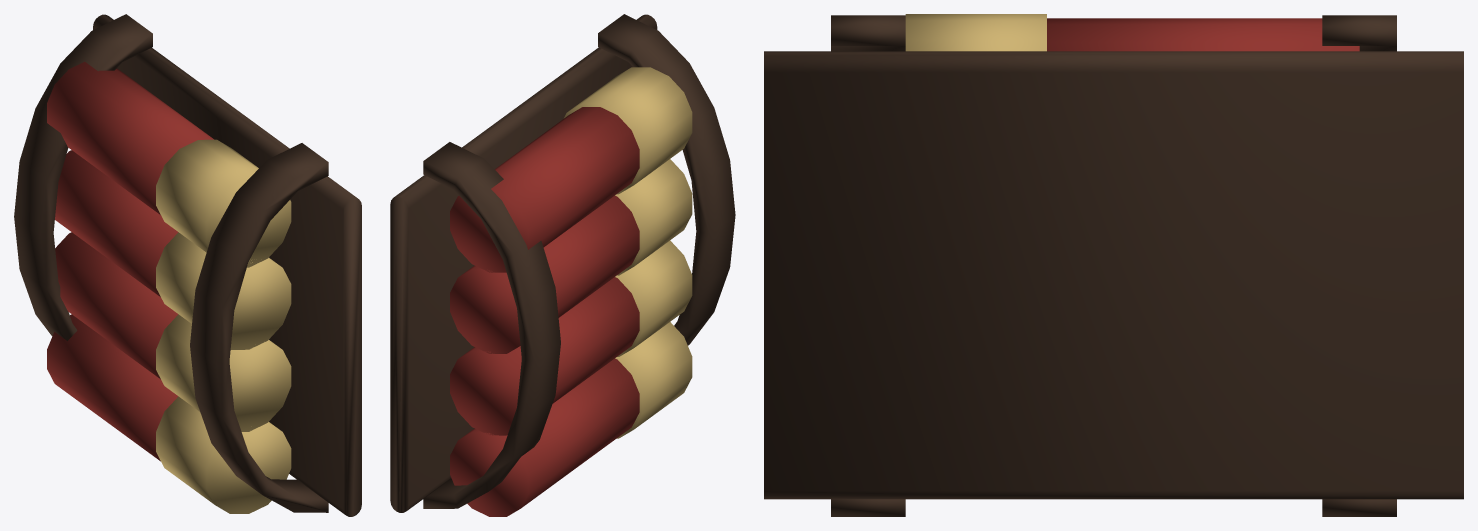
Rendered from bullet_loops.glb.
3 views of the same model, side by side, from view 1: azimuth 30°, elevation 25°; view 2: azimuth 150°, elevation 25°; view 3: azimuth 270°, elevation 25° (orthographic). The views are drawn at different scales.
Parts seen in each view (by area): view 1: bullet_loops; view 2: bullet_loops; view 3: bullet_loops.
Part boxes in pixels (x1=…): bullet_loops: x1=14, y1=14, x2=361, y2=516; bullet_loops: x1=390, y1=14, x2=735, y2=516; bullet_loops: x1=764, y1=14, x2=1463, y2=516.
Bounding box in the file's own units: 0.0263 × 0.0742 × 0.094.
